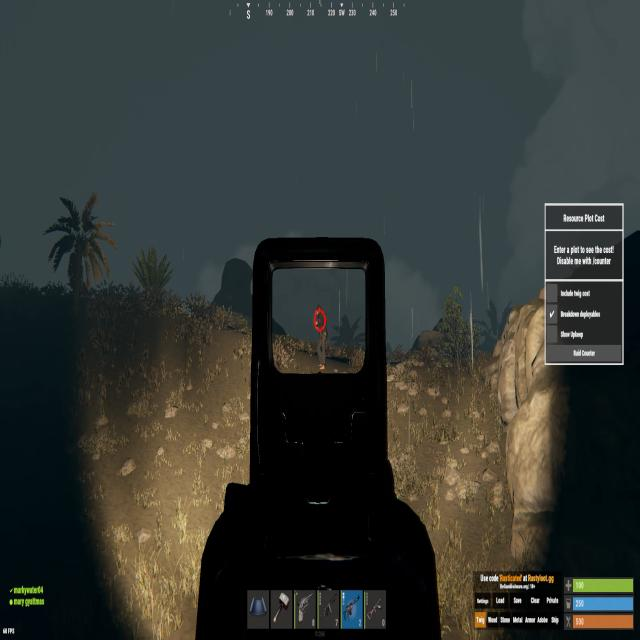Player: (312, 301, 330, 372)
